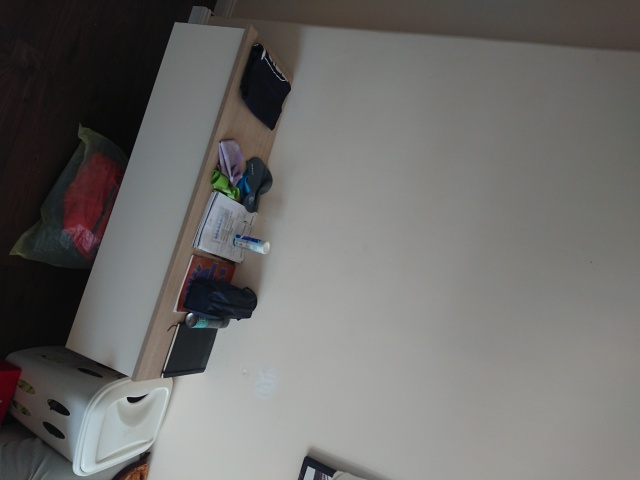Solana Pag Fine Sea Salt 250g: (229, 230, 272, 257)
